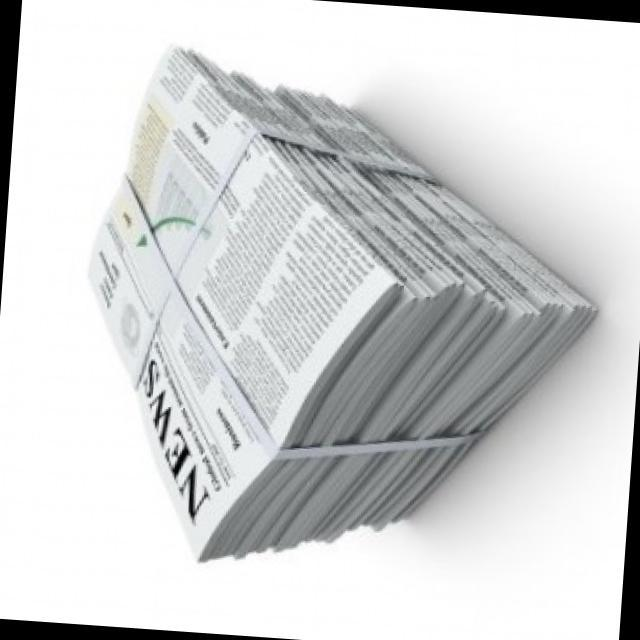reuseable_paper: (19, 25, 640, 601)
